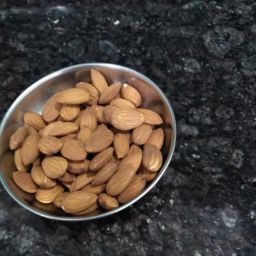Almonds: (24, 67, 164, 188), (8, 131, 156, 211), (24, 72, 164, 148), (5, 103, 96, 216), (17, 112, 163, 172)
